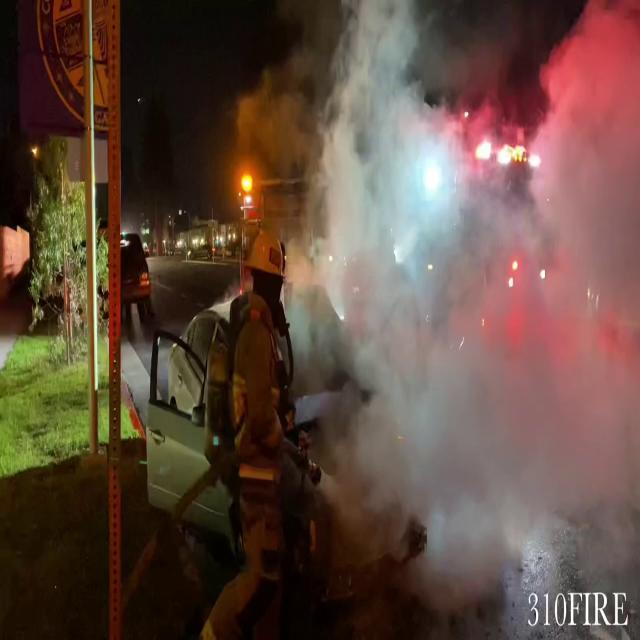Smoke: (299, 3, 640, 608)
